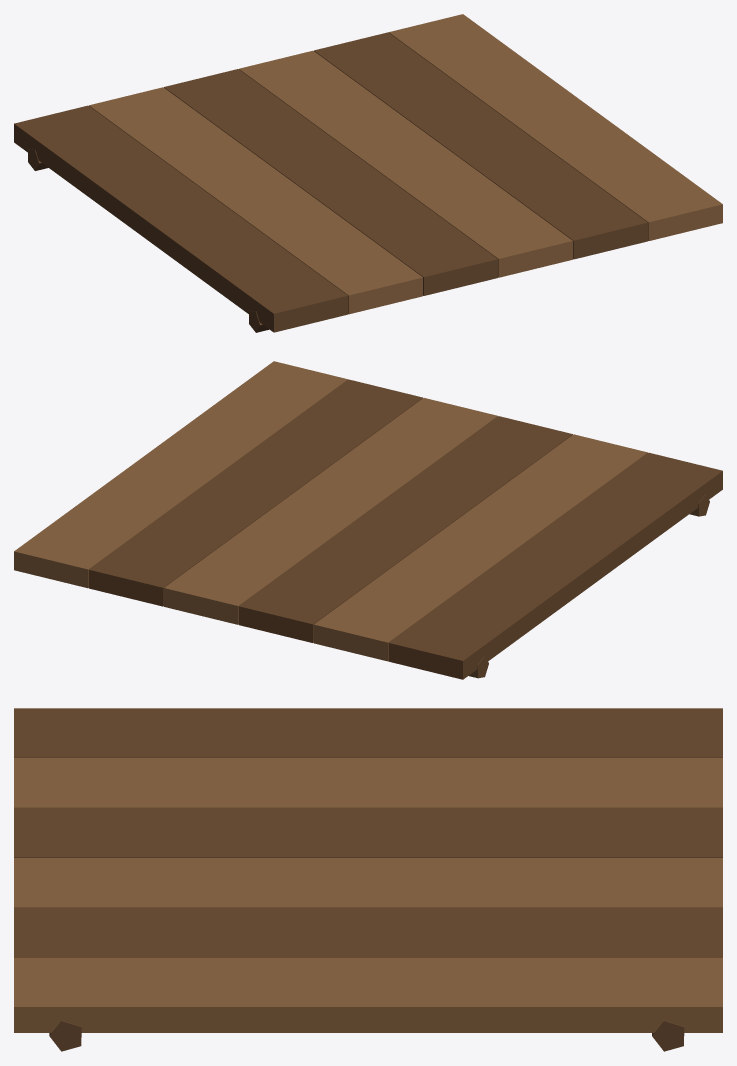
File: floor-plank.glb
3 renders of one model, top to bottom at view 1: azimuth 30°, elevation 25°; view 2: azimuth 150°, elevation 25°; view 3: azimuth 270°, elevation 25°, orthographic. The views are drawn at different scales.
Visible parts, largest first — view 1: floor_plank; view 2: floor_plank; view 3: floor_plank.
Part boxes in pixels (x1,y1,x2,y2): floor_plank: (14, 14, 722, 332); floor_plank: (14, 361, 722, 679); floor_plank: (14, 708, 722, 1051).
Bounding box in the file's own units: 2 × 0.1373 × 2.
